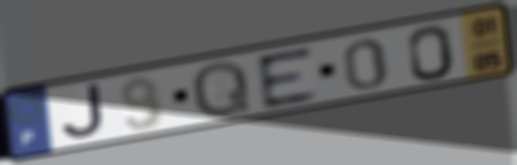0: (405, 22, 458, 82), (340, 36, 392, 92)
9: (118, 75, 166, 134)
E: (253, 44, 321, 111)
J: (59, 81, 109, 141)
Q: (190, 58, 254, 120)
